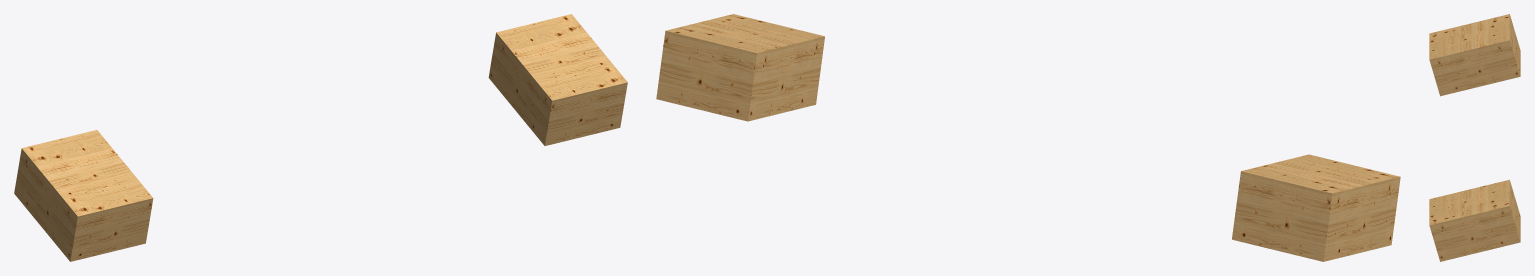
The model's file is bukuai.gltf.
3 views of the same model, side by side, from view 1: azimuth 30°, elevation 25°; view 2: azimuth 150°, elevation 25°; view 3: azimuth 270°, elevation 25° (orthographic). The views are drawn at different scales.
Visible parts, largest first — view 1: 对象020; view 2: 对象020; view 3: 对象020.
Boxes of the visible parts, bbox=[...] form: 对象020: bbox=[14, 14, 627, 261]; 对象020: bbox=[656, 14, 1400, 261]; 对象020: bbox=[1429, 14, 1520, 261].
Size of the model in its own units: 109 by 14.84 by 21.91.
Materials: 1 (1 with a texture image).
